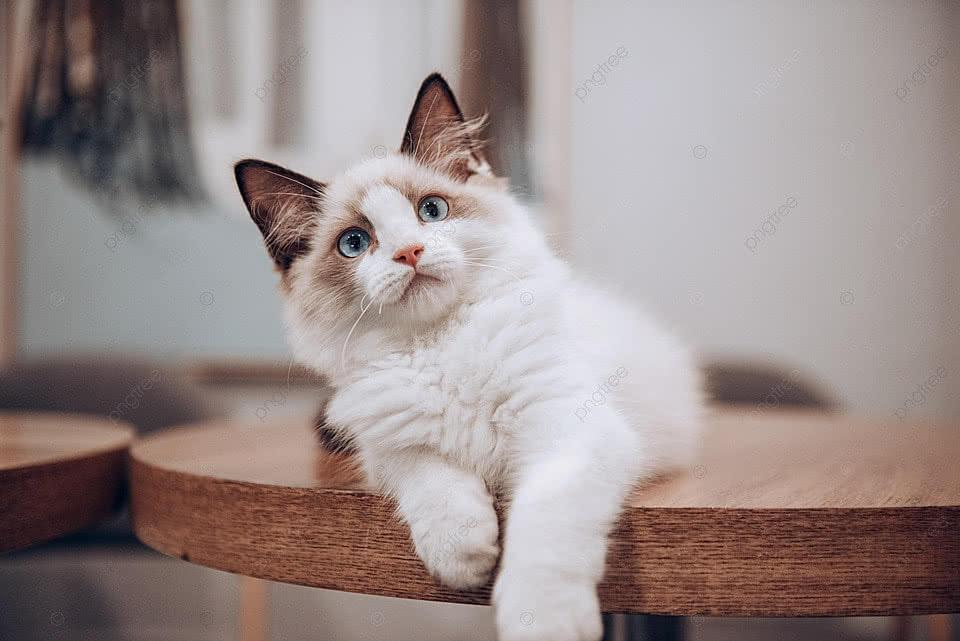cat: (228, 68, 712, 641)
